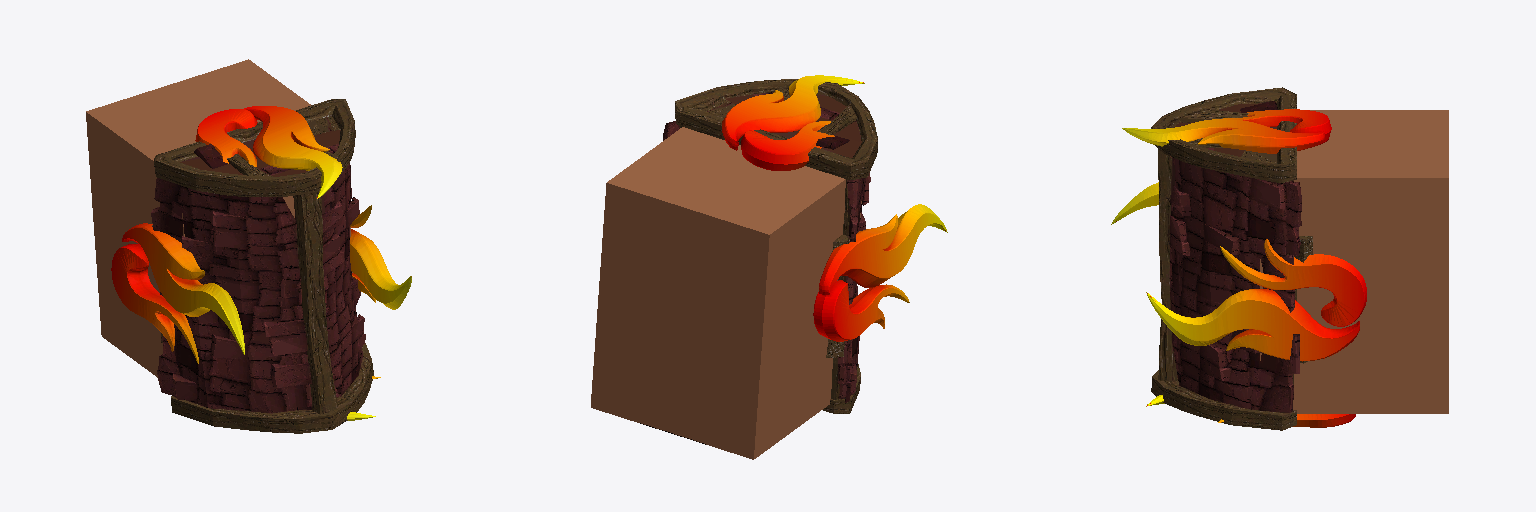
3 views of the same model, side by side, from view 1: azimuth 30°, elevation 25°; view 2: azimuth 150°, elevation 25°; view 3: azimuth 270°, elevation 25° (orthographic).
Parts seen in each view (by area): view 1: Object_14_Mesh_9, Object_3_Mesh_2, Object_20_Mesh_15, Object_1_Mesh_0, Object_11_Mesh_7, Object_2_Mesh_1, Object_8_Mesh_5, Object_12_Mesh_8; view 2: Object_3_Mesh_2, Object_20_Mesh_15, Object_1_Mesh_0, Object_11_Mesh_7, Object_2_Mesh_1, Object_12_Mesh_8, Object_14_Mesh_9; view 3: Object_3_Mesh_2, Object_14_Mesh_9, Object_20_Mesh_15, Object_8_Mesh_5, Object_9_Mesh_6, Object_11_Mesh_7, Object_12_Mesh_8, Object_6_Mesh_4, Object_1_Mesh_0.
Boxes of the visible parts, x1=… form: Object_14_Mesh_9: x1=151, y1=164, x2=365, y2=412; Object_3_Mesh_2: x1=86, y1=59, x2=352, y2=377; Object_20_Mesh_15: x1=152, y1=99, x2=373, y2=433; Object_1_Mesh_0: x1=122, y1=223, x2=244, y2=354; Object_11_Mesh_7: x1=244, y1=106, x2=342, y2=198; Object_2_Mesh_1: x1=111, y1=244, x2=198, y2=363; Object_8_Mesh_5: x1=350, y1=229, x2=411, y2=309; Object_12_Mesh_8: x1=195, y1=109, x2=257, y2=166; Object_3_Mesh_2: x1=591, y1=127, x2=861, y2=459; Object_20_Mesh_15: x1=675, y1=79, x2=877, y2=413; Object_1_Mesh_0: x1=819, y1=204, x2=947, y2=294; Object_11_Mesh_7: x1=722, y1=75, x2=864, y2=150; Object_2_Mesh_1: x1=813, y1=280, x2=909, y2=341; Object_12_Mesh_8: x1=741, y1=121, x2=834, y2=170; Object_14_Mesh_9: x1=663, y1=121, x2=870, y2=402; Object_3_Mesh_2: x1=1260, y1=110, x2=1448, y2=413; Object_14_Mesh_9: x1=1170, y1=157, x2=1301, y2=412; Object_20_Mesh_15: x1=1151, y1=87, x2=1312, y2=430; Object_8_Mesh_5: x1=1146, y1=289, x2=1359, y2=361; Object_9_Mesh_6: x1=1220, y1=239, x2=1366, y2=326; Object_11_Mesh_7: x1=1122, y1=119, x2=1324, y2=153; Object_12_Mesh_8: x1=1223, y1=109, x2=1331, y2=142; Object_6_Mesh_4: x1=1218, y1=414, x2=1355, y2=427; Object_1_Mesh_0: x1=1111, y1=182, x2=1158, y2=224.
Bounding box in the file's own units: 1.13 × 1.37 × 1.51.
4 materials, 4 textured.